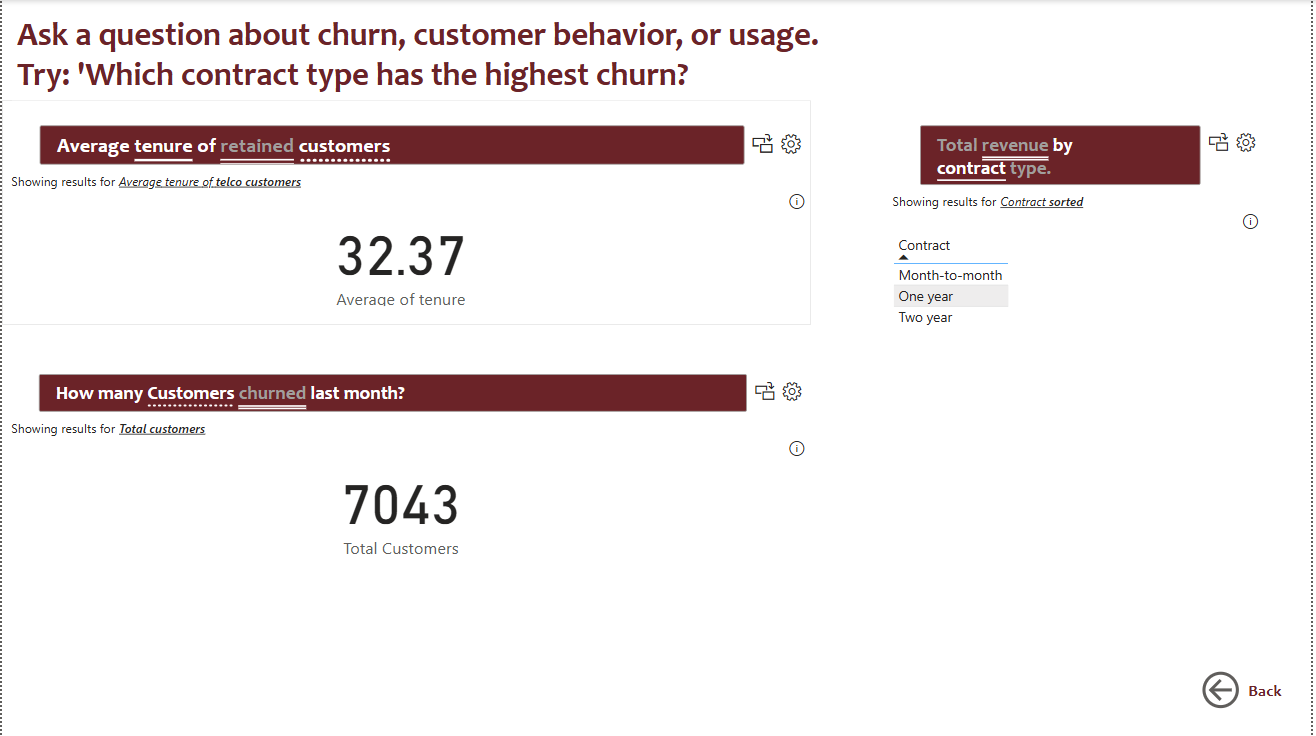

What the dashboard file says about the page in this screenshot:
{"tool":"powerbi","page":{"name":"Q&A","canvas":[1280,720],"ordinal":1},"visuals":[{"type":"qnaVisual","box":[0,341.2,791.2,221.3],"z":0},{"type":"qnaVisual","box":[862.1,97.8,373,464.7],"z":1000},{"type":"qnaVisual","box":[0,97.8,791.2,220.1],"z":2000},{"type":"textbox","box":[9.8,8.6,1188.6,89.3],"z":3000},{"type":"actionButton","box":[1159.2,642,106.4,66],"z":4000}]}

Visuals, with their boxes in screenshot pixels (x1, y1, x2, y2), scaled from the page's 1280x720 canvas onto the 1316x736 screenshot:
qnaVisual: 0,349,813,575
qnaVisual: 886,100,1270,575
qnaVisual: 0,100,813,325
textbox: 10,9,1232,100
actionButton: 1192,656,1301,724
